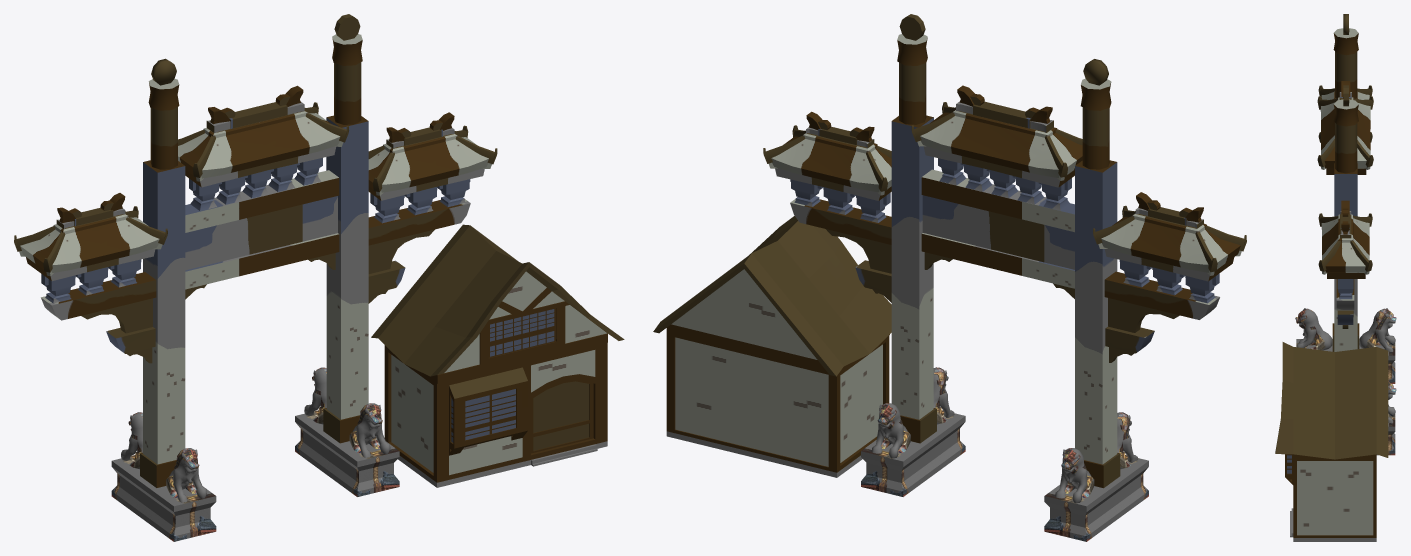
File: ticdoor.fbx
3 renders of one model, left to right at view 1: azimuth 30°, elevation 25°; view 2: azimuth 150°, elevation 25°; view 3: azimuth 270°, elevation 25°, orthographic. The views are drawn at different scales.
Visible parts, largest first — view 1: House_004, Cube_001; view 2: House_004, Cube_001; view 3: Cube_001, House_004.
Boxes of the visible parts, x1,y1,x2,y2 form: House_004: (14,14,497,541); Cube_001: (371,224,624,487); House_004: (763,14,1246,541); Cube_001: (653,216,891,477); Cube_001: (1275,342,1388,541); House_004: (1295,14,1396,455).
Bounding box in the file's own units: 983 × 785 × 235.
